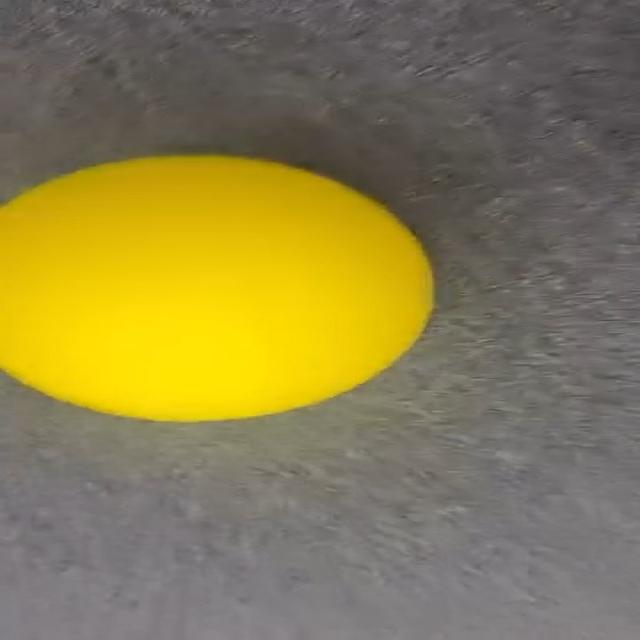Fuels: (0, 156, 428, 420)
